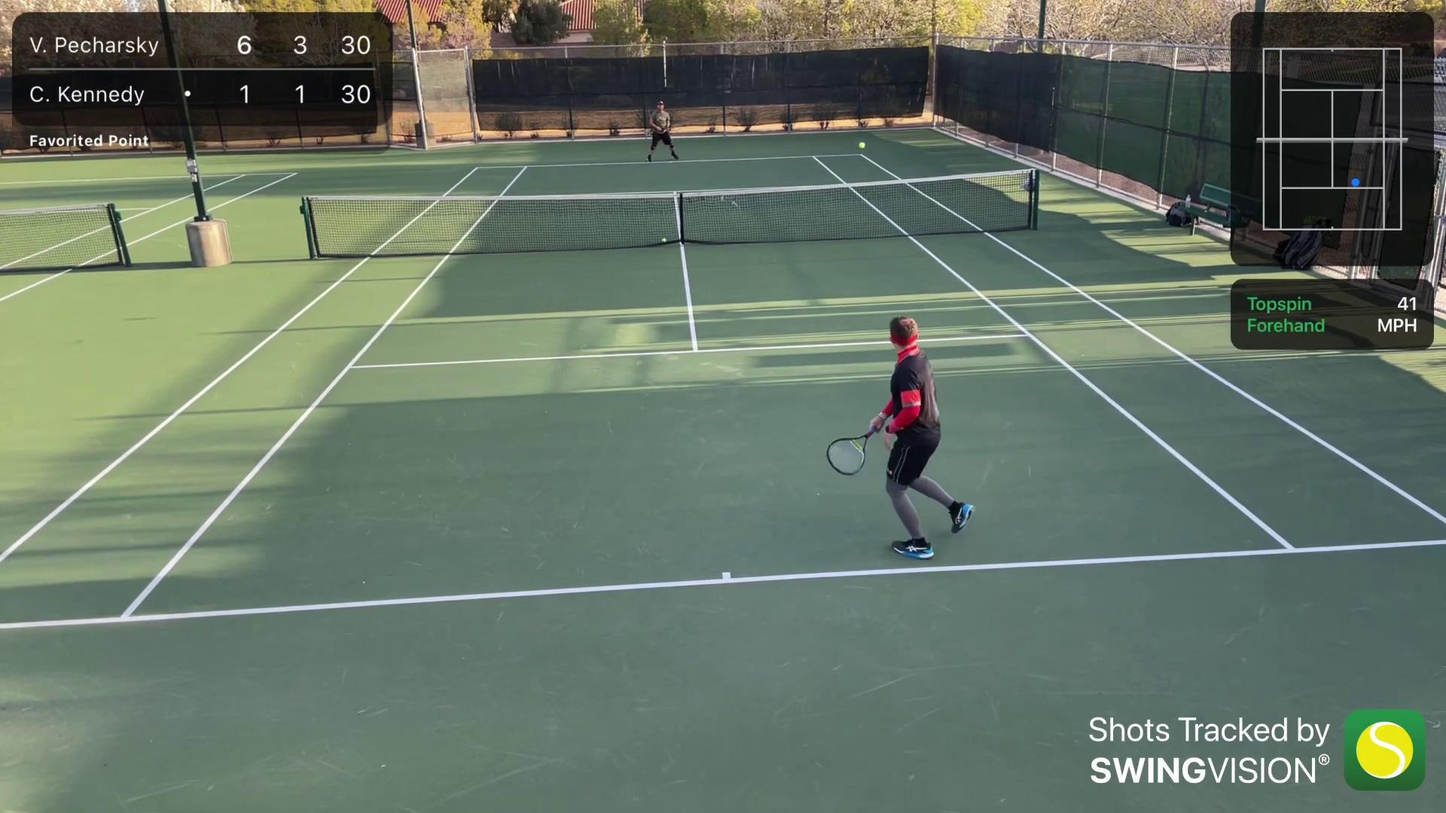ball: (856, 141, 867, 152), (660, 237, 668, 243)
